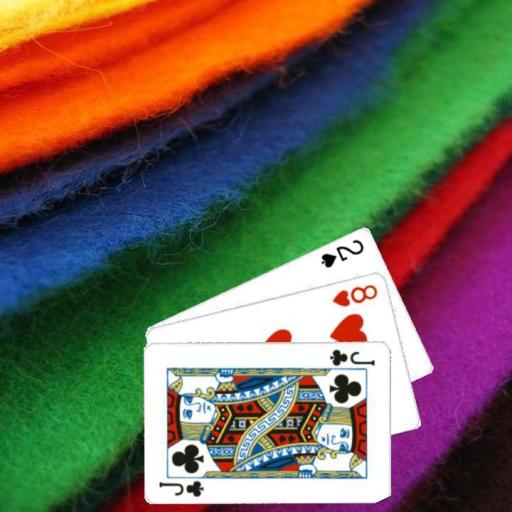card-corner: (318, 236, 365, 270), (329, 280, 379, 308), (156, 477, 206, 499), (327, 346, 377, 367)
